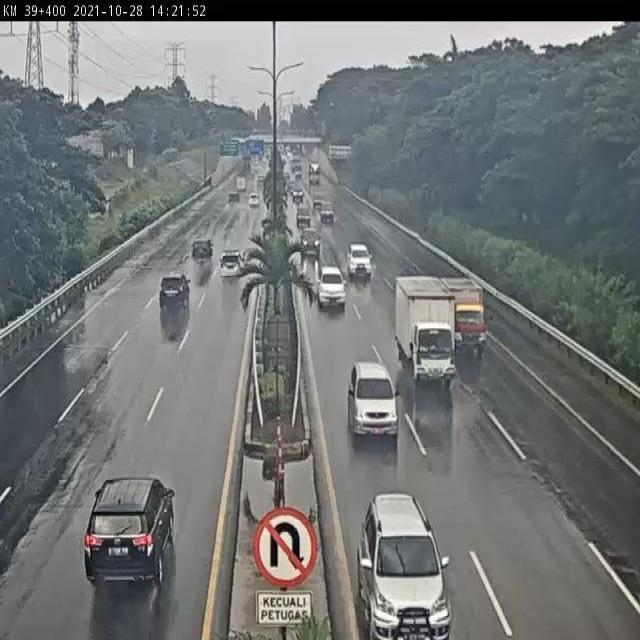car: (355, 490, 452, 640), (84, 474, 175, 586), (348, 365, 396, 439), (159, 272, 192, 312), (318, 264, 347, 309), (346, 243, 372, 277), (219, 248, 245, 280), (190, 236, 214, 264), (300, 225, 320, 252)
truck-m-: (392, 274, 450, 374)
truck-s-: (447, 277, 488, 352)
